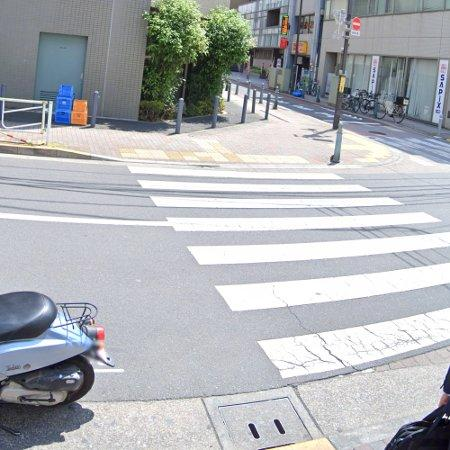crosswalks: (127, 163, 450, 379)
